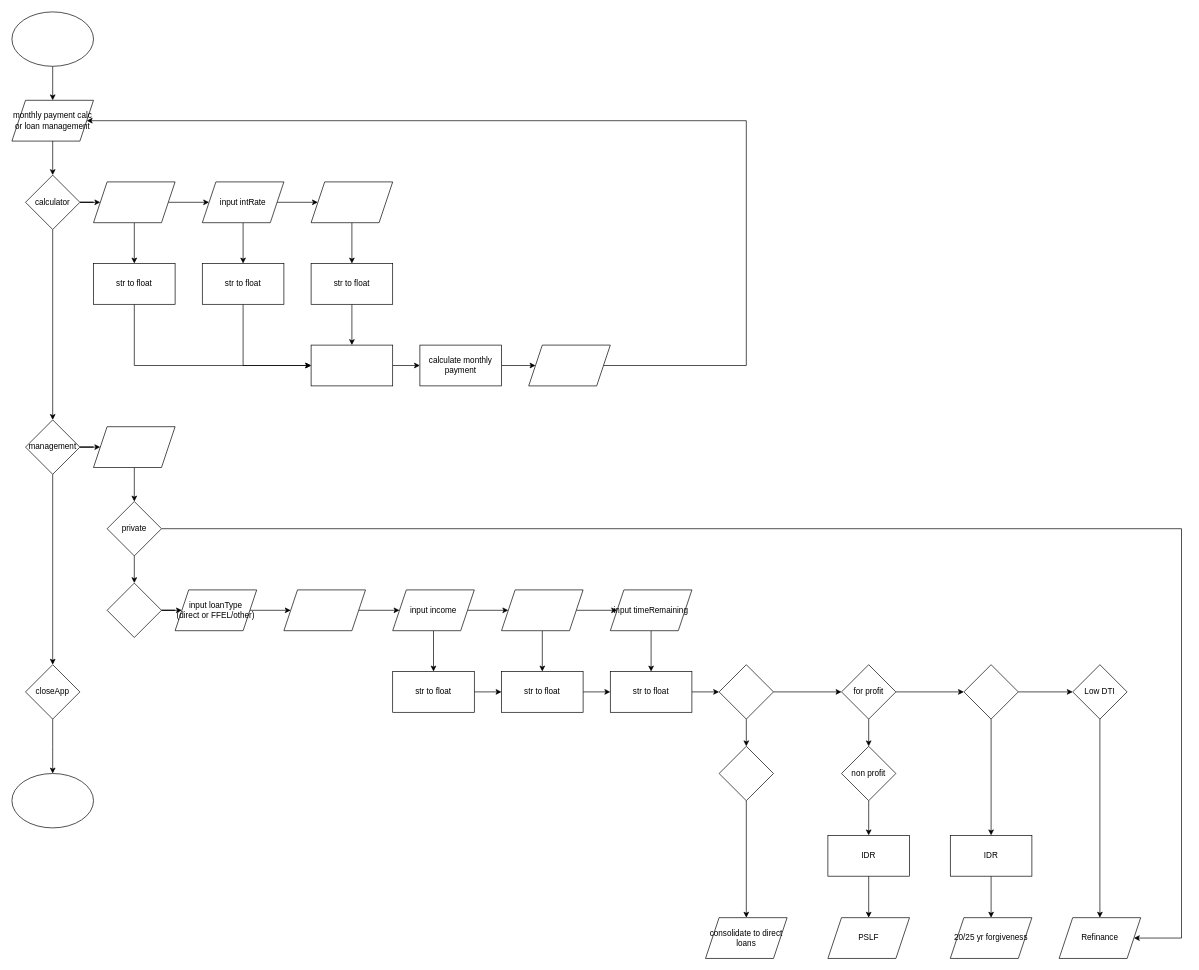
Image size: 1199x970. Some labels were removed from this diagram. The centre of each missing label's shape, as x and y in pixels:
"direct" belongs at pixel 746 691.
"End" belongs at pixel 52 800.
"FFEL/other" belongs at pixel 746 773.
"hight DTI" belongs at pixel 990 691.
"input loanAmt" belongs at pixel 134 202.
"input loanEntry" belongs at pixel 134 447.
"input occupation (for profit or non-profti)" belongs at pixel 324 610.
"input outstandingBalance" belongs at pixel 542 610.
"input timeYears" belongs at pixel 351 202.
"output monthlyPay" belongs at pixel 569 365.
"public" belongs at pixel 134 610.
"Start" belongs at pixel 52 38.
"totalNumPay = timeYears*12" belongs at pixel 351 365.
